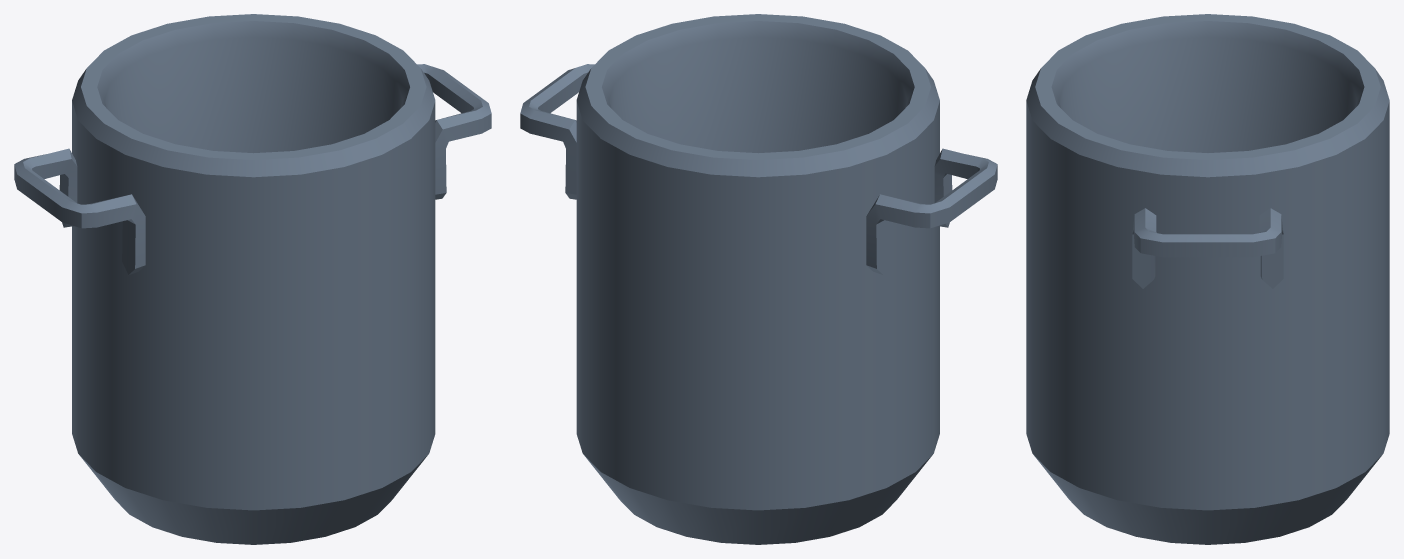
Rendered from pot2-empty.glb.
3 renders of one model, left to right at view 1: azimuth 30°, elevation 25°; view 2: azimuth 150°, elevation 25°; view 3: azimuth 270°, elevation 25°, orthographic.
Parts seen in each view (by area): view 1: Environment_Pot_2_Empty; view 2: Environment_Pot_2_Empty; view 3: Environment_Pot_2_Empty.
Boxes of the visible parts, x1,y1,x2,y2 form: Environment_Pot_2_Empty: [14, 14, 491, 544]; Environment_Pot_2_Empty: [520, 14, 997, 544]; Environment_Pot_2_Empty: [1026, 14, 1389, 544].
Size of the model in its own units: 1.4 by 1.25 by 1.04.
